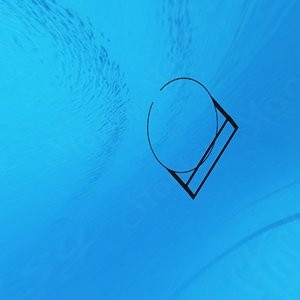circle: (142, 76, 245, 202)
